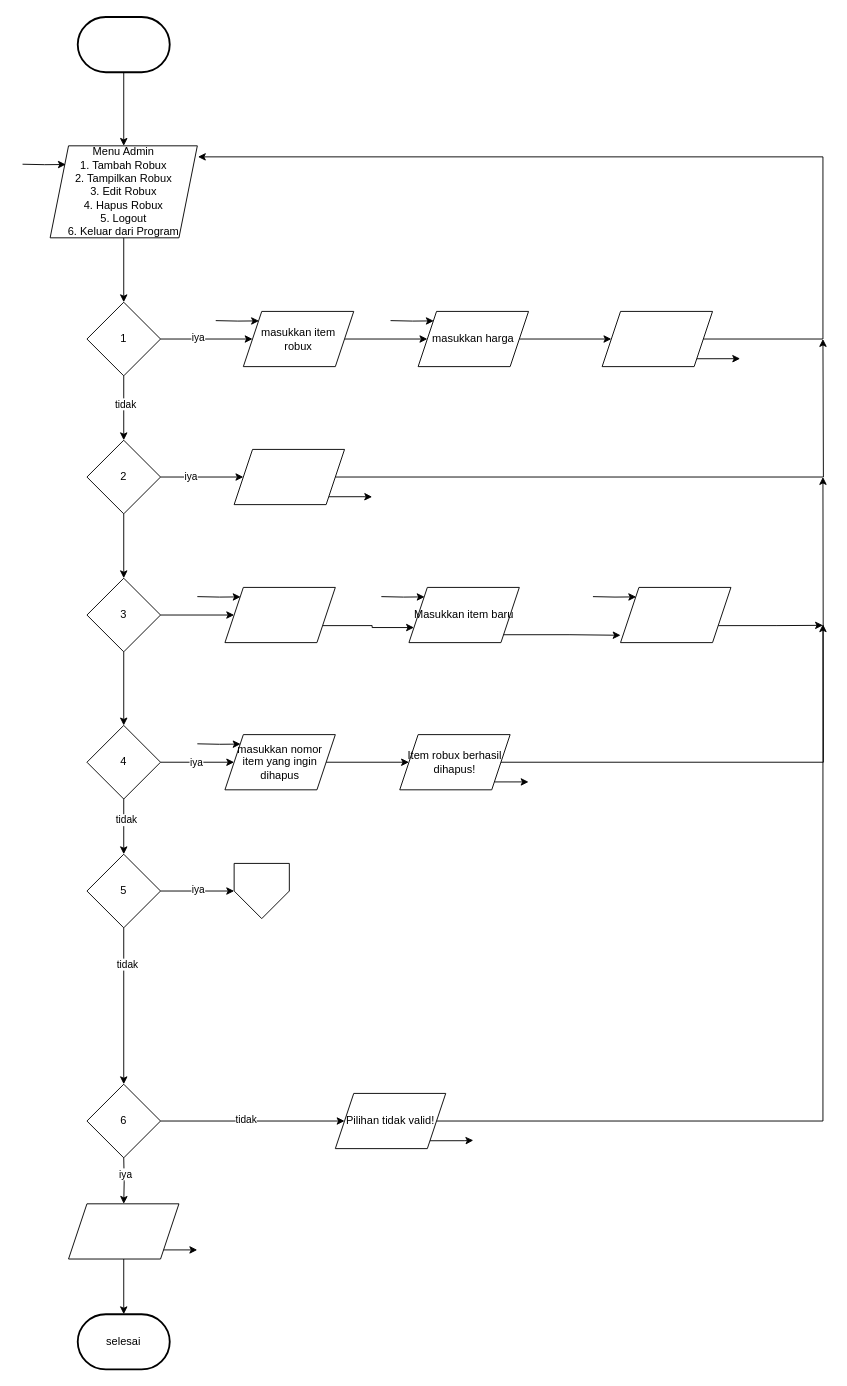
Some shapes in this 847 by 1386 pixel diagram are drawn without their labels. The centre of each missing label's shape, as x and y in pixels:
daftar robux: pixel 289 476
Item robux berhasil ditambahkan!: pixel 657 338
keluar dari program: pixel 123 1231
Masukkan harga baru: pixel 675 614
Masukkan nomor item yang ingin diedit: pixel 279 614
menu: pixel 261 890
mulai: pixel 123 44
